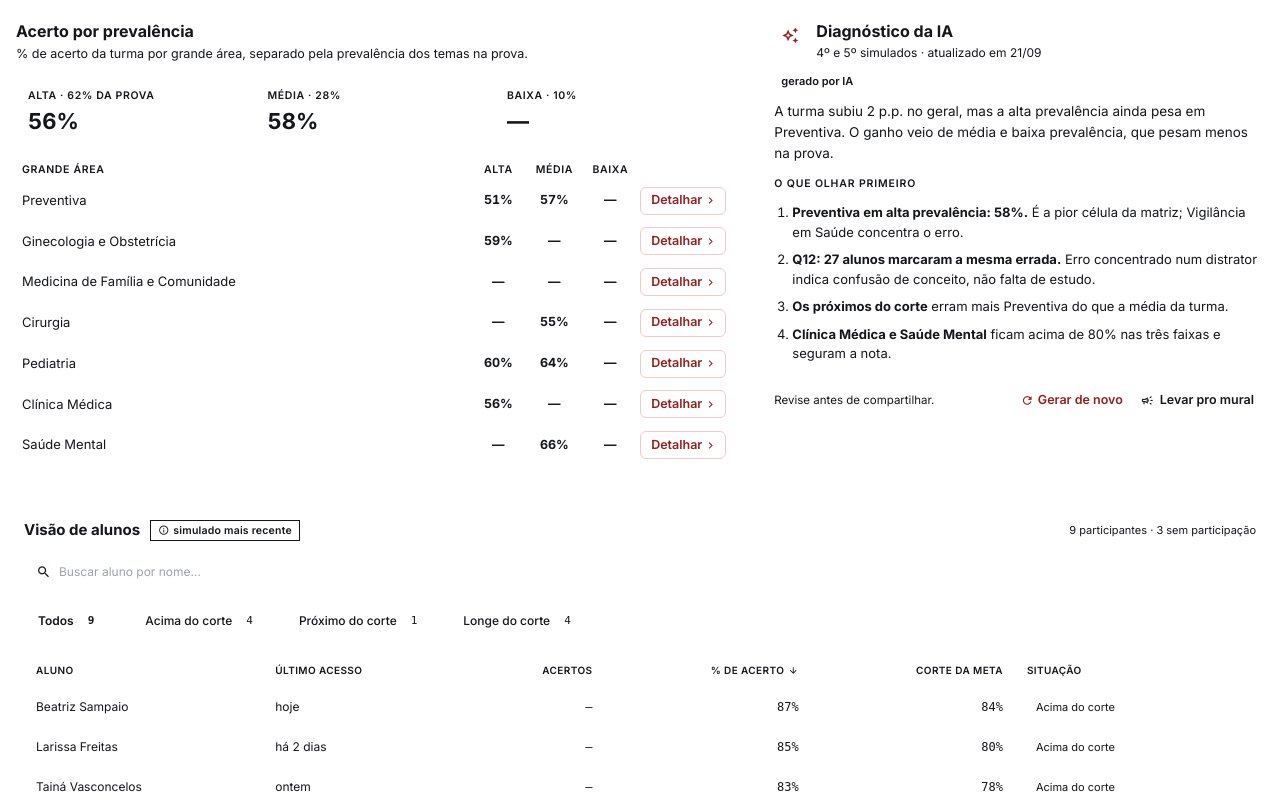
Test: Detalhamento · B2C (mock) › IA: "Gerar de novo" mostra skeleton e toast; "Levar pro mural" abre o Mural preenchido para a turma
This screenshot has width=1280, height=800.
Later steps or results of the test are not shown.
(page scrolled)
Check: the text "A turma subiu 2 p.p." is shown, box top-left (774, 103), bottom-right (1248, 161)
Click the button "Gerar de novo" at (1072, 401), box top-left (1021, 391), bottom-right (1123, 410)
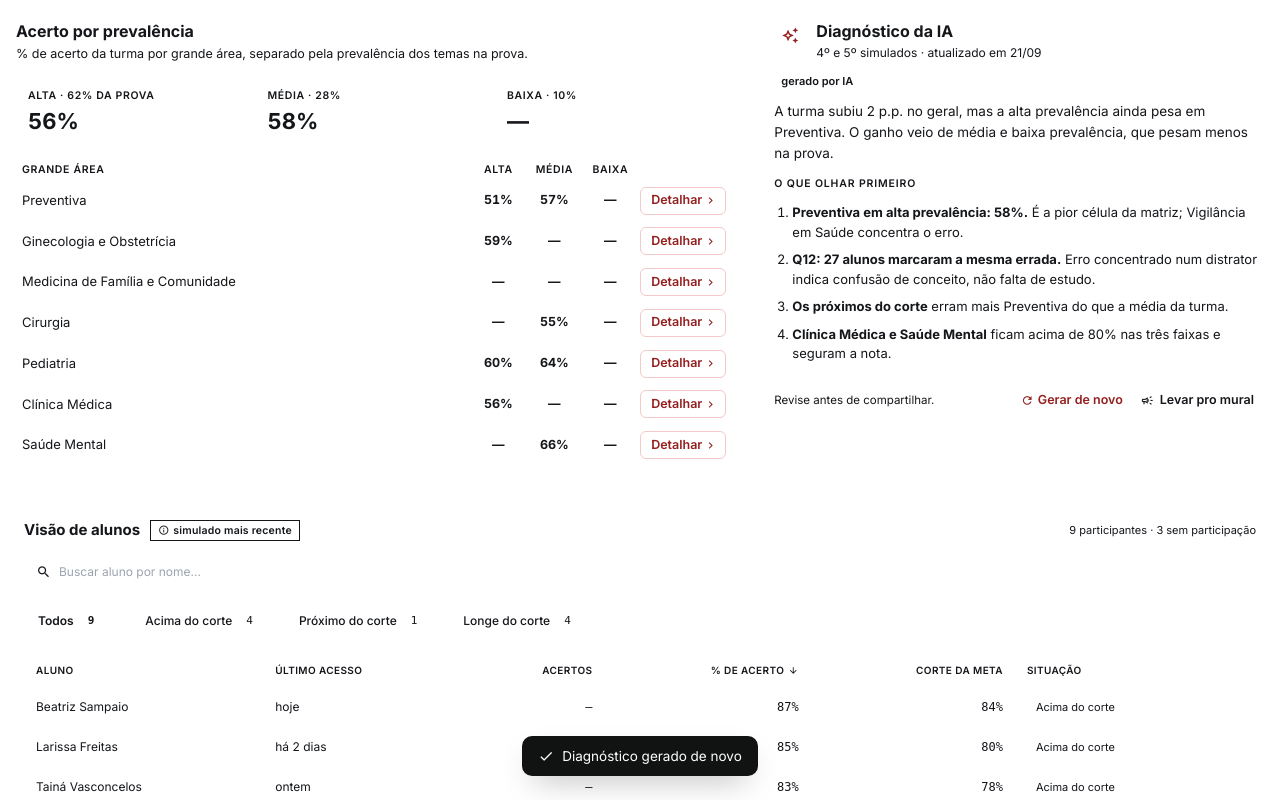
Check: the element with test id "toast-detalhamento" reads "Diagnóstico gerado de novo", box top-left (562, 748), bottom-right (742, 764)
